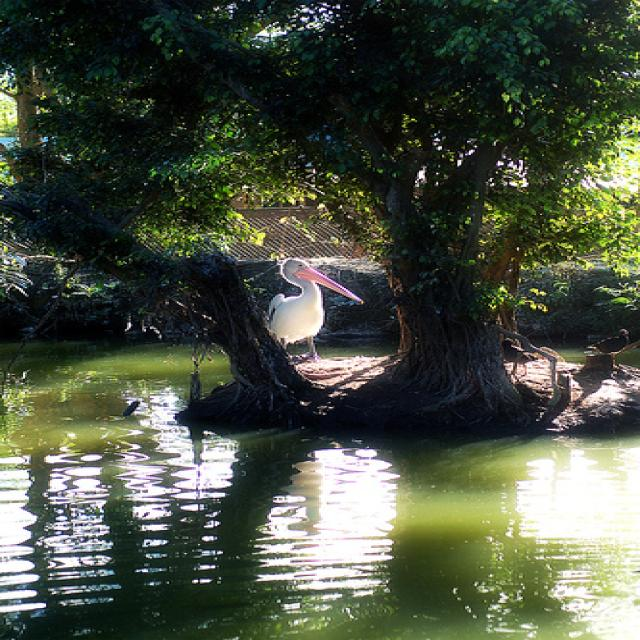bird: (268, 260, 362, 362)
